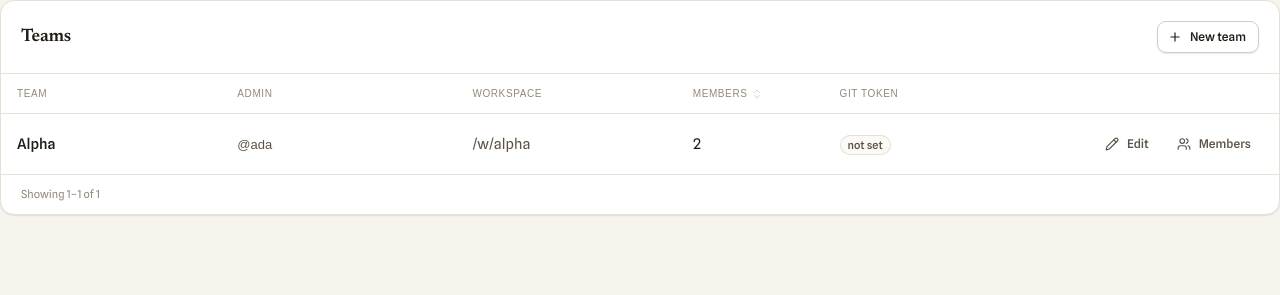
Test case: TeamsPanel › says the roster could not be loaded, rather than claiming the team is empty
The image size is (1280, 295).
Click the button "Members" in the row of "ada" at (1215, 144), box [1167, 128, 1263, 160]
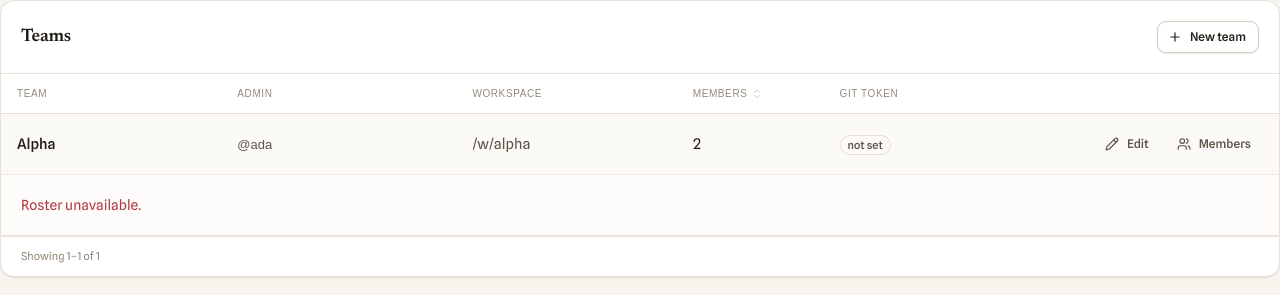
Result: the message reads "Roster unavailable." at [21, 197, 141, 213]
